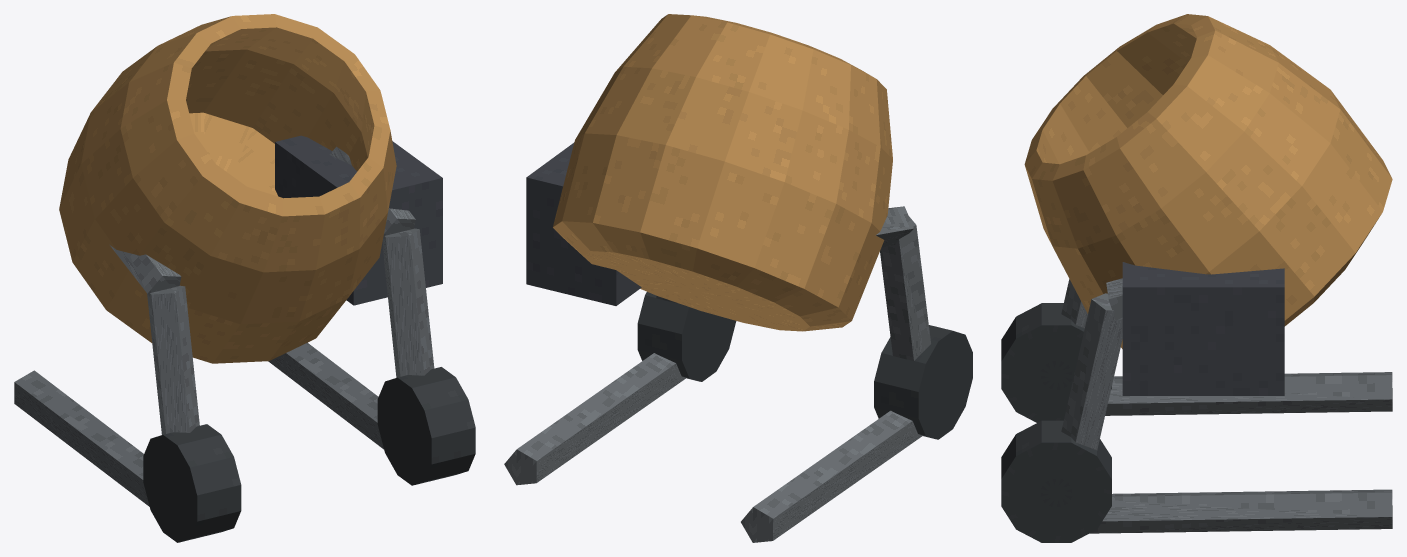
The model's file is con_mix_foldable.glb.
The picture shows the model from 3 angles, left to right: view 1: azimuth 30°, elevation 25°; view 2: azimuth 150°, elevation 25°; view 3: azimuth 270°, elevation 25°; orthographic projection. The views are drawn at different scales.
Visible parts, largest first — view 1: block_open mixing drum, block_transport wheel (×2), block_stand 1 (×2), block_stand 0 (×2), block_drive cover, block_stand 2 (×2); view 2: block_open mixing drum, block_stand 0 (×2), block_transport wheel (×2), block_drive cover, block_stand 1, block_stand 2; view 3: block_open mixing drum, block_drive cover, block_stand 0 (×2), block_transport wheel (×2), block_stand 1 (×2), block_stand 2.
Boxes of the visible parts, x1,y1,x2,y2 form: block_open mixing drum: (59,14,396,363); block_transport wheel (×2): (143,367,475,542); block_stand 1 (×2): (147,228,434,434); block_stand 0 (×2): (14,342,383,506); block_drive cover: (275,135,442,305); block_stand 2 (×2): (110,146,415,296); block_open mixing drum: (553,14,892,331); block_stand 0 (×2): (504,353,922,542); block_transport wheel (×2): (637,292,972,439); block_drive cover: (526,142,641,305); block_stand 1: (880,216,930,360); block_stand 2: (876,206,913,247); block_open mixing drum: (1024,14,1392,348); block_drive cover: (1122,262,1284,395); block_stand 0 (×2): (1090,372,1392,533); block_transport wheel (×2): (1001,303,1111,542); block_stand 1 (×2): (1061,279,1122,450); block_stand 2: (1106,278,1122,320).
Bounding box in the file's own units: 0.8219 × 1.11 × 0.8876.
Materials: 1 (1 with a texture image).
